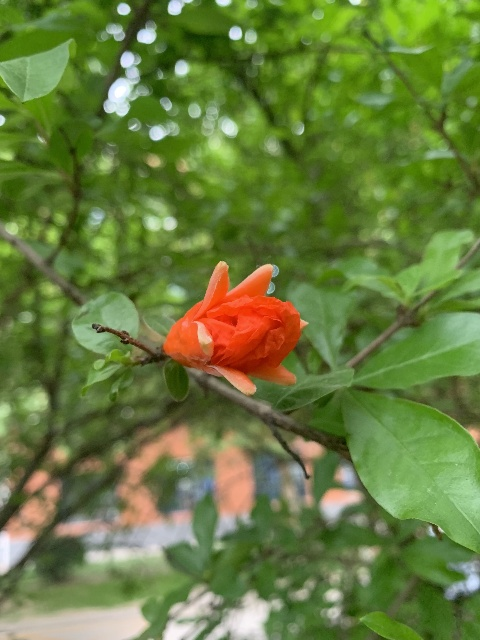flower: (163, 260, 306, 397)
